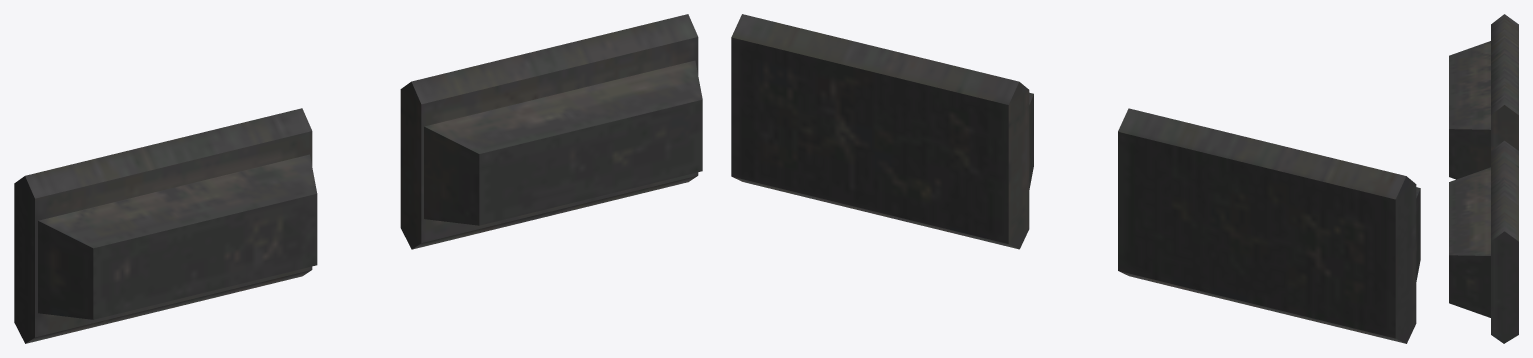
The picture shows the model from 3 angles, left to right: view 1: azimuth 30°, elevation 25°; view 2: azimuth 150°, elevation 25°; view 3: azimuth 270°, elevation 25°; orthographic projection. The views are drawn at different scales.
Visible parts, largest first — view 1: set_0_group_0; view 2: set_0_group_0; view 3: set_0_group_0.
Part boxes in pixels (left/top/right/bottom): set_0_group_0: left=14, top=14, right=702, bottom=343; set_0_group_0: left=731, top=14, right=1420, bottom=343; set_0_group_0: left=1449, top=14, right=1518, bottom=343.
Size of the model in its own units: 0.3263 by 0.0789 by 0.0443.
1 material, 1 textured.
